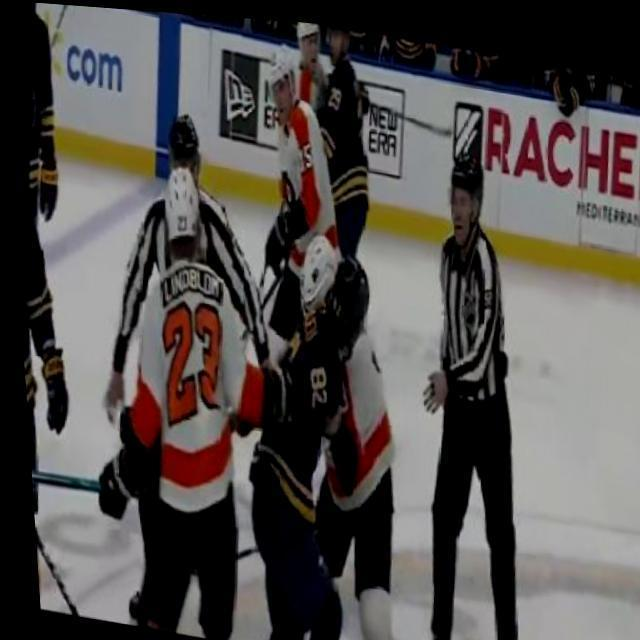fight: (218, 220, 430, 640)
